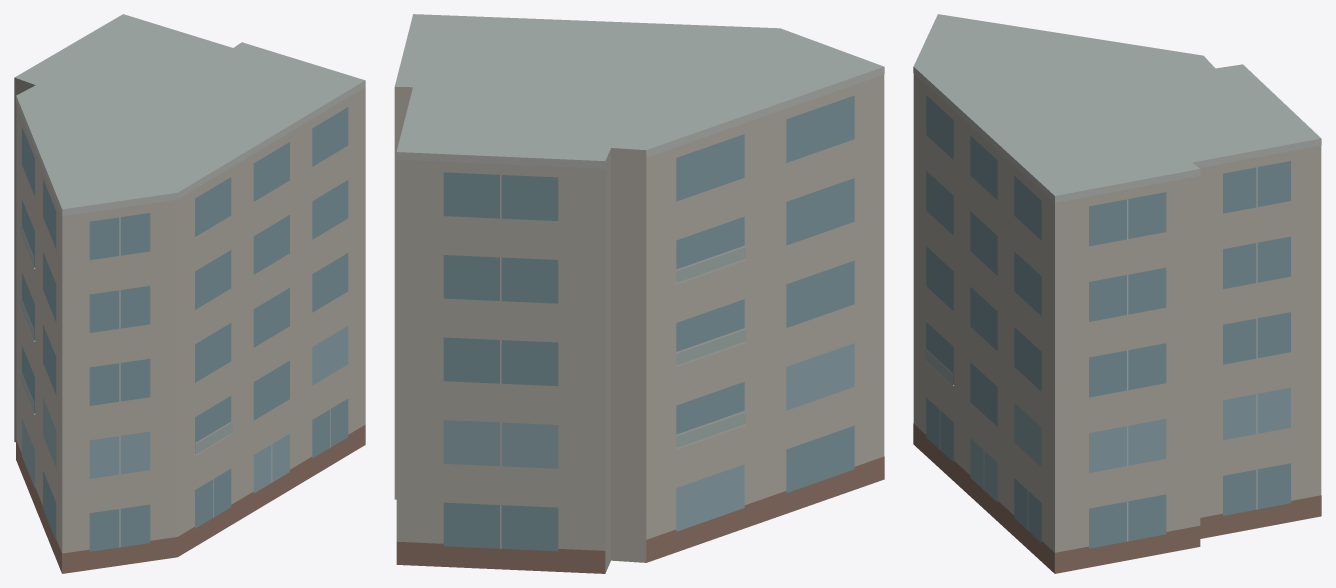
The model's file is survey-upis-33045823.glb.
The picture shows the model from 3 angles, left to right: view 1: azimuth 30°, elevation 25°; view 2: azimuth 150°, elevation 25°; view 3: azimuth 270°, elevation 25°; orthographic projection. The views are drawn at different scales.
Visible parts, largest first — view 1: survey-upis-33045823.tmp; view 2: survey-upis-33045823.tmp; view 3: survey-upis-33045823.tmp.
Boxes of the visible parts, x1=… form: survey-upis-33045823.tmp: x1=14, y1=14, x2=365, y2=573; survey-upis-33045823.tmp: x1=394, y1=14, x2=884, y2=573; survey-upis-33045823.tmp: x1=913, y1=14, x2=1321, y2=573.
Size of the model in its own units: 13.75 by 13.3 by 13.02.
